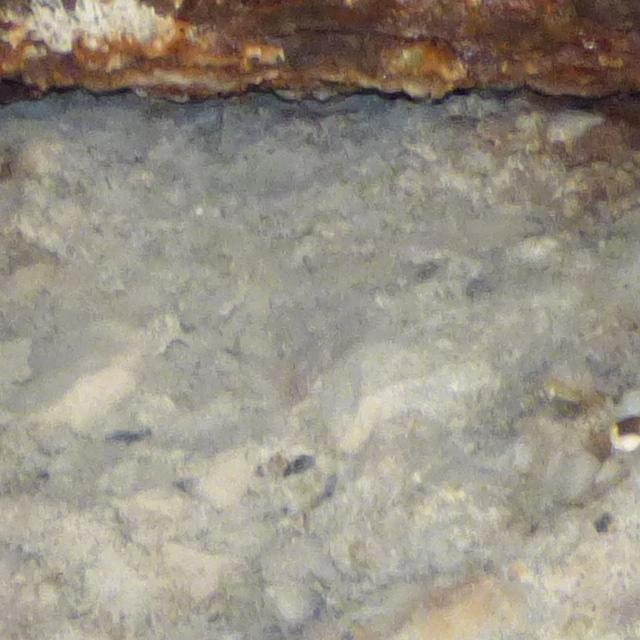Rust: (4, 4, 635, 116)
